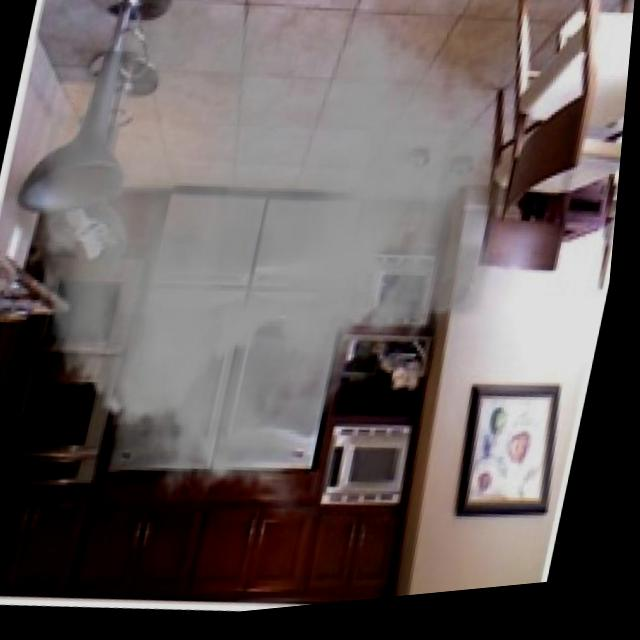Smoke: (0, 0, 559, 534)
